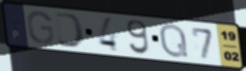4: (95, 16, 122, 54)
7: (189, 26, 216, 60)
9: (126, 18, 151, 56)
D: (53, 11, 87, 49)
G: (25, 10, 56, 46)
Q: (158, 22, 191, 59)
